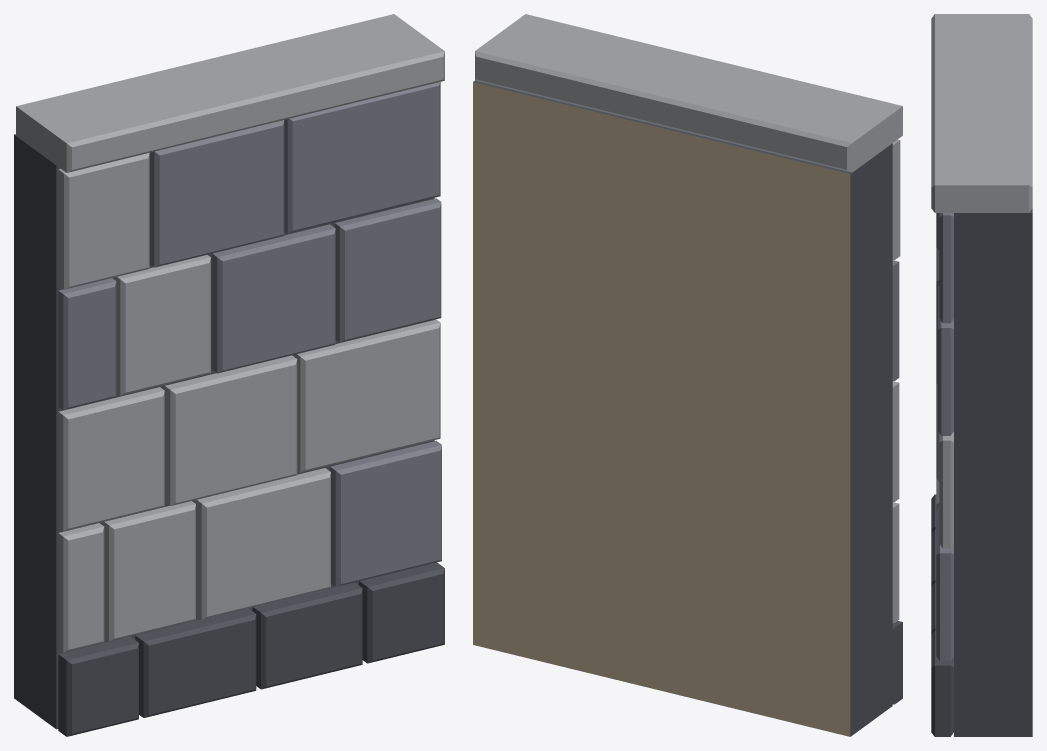
The model's file is WallStraight_16.glb.
The picture shows the model from 3 angles, left to right: view 1: azimuth 30°, elevation 25°; view 2: azimuth 150°, elevation 25°; view 3: azimuth 270°, elevation 25°; orthographic projection. The views are drawn at different scales.
Parts seen in each view (by area): view 1: WallStraight_16; view 2: WallStraight_16; view 3: WallStraight_16.
Part boxes in pixels (bbox=[...]): WallStraight_16: bbox=[14, 14, 444, 736]; WallStraight_16: bbox=[473, 14, 902, 736]; WallStraight_16: bbox=[931, 14, 1032, 736].
Bounding box in the file's own units: 8 × 12 × 2.
